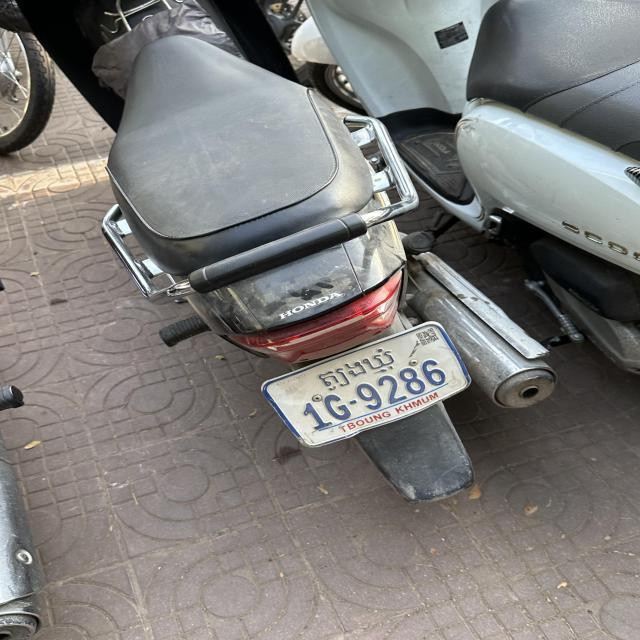Tboung_Khmum: (319, 346, 395, 394)
